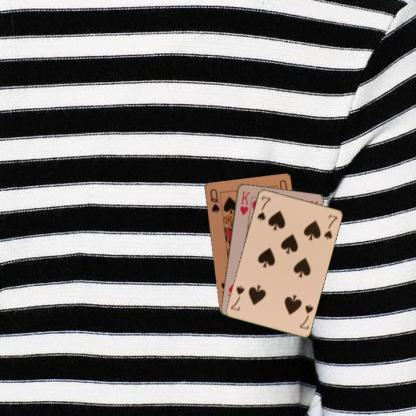7s: (254, 193, 272, 222), (296, 301, 314, 330)
Kh: (237, 188, 251, 216)
Qs: (207, 186, 221, 214)
